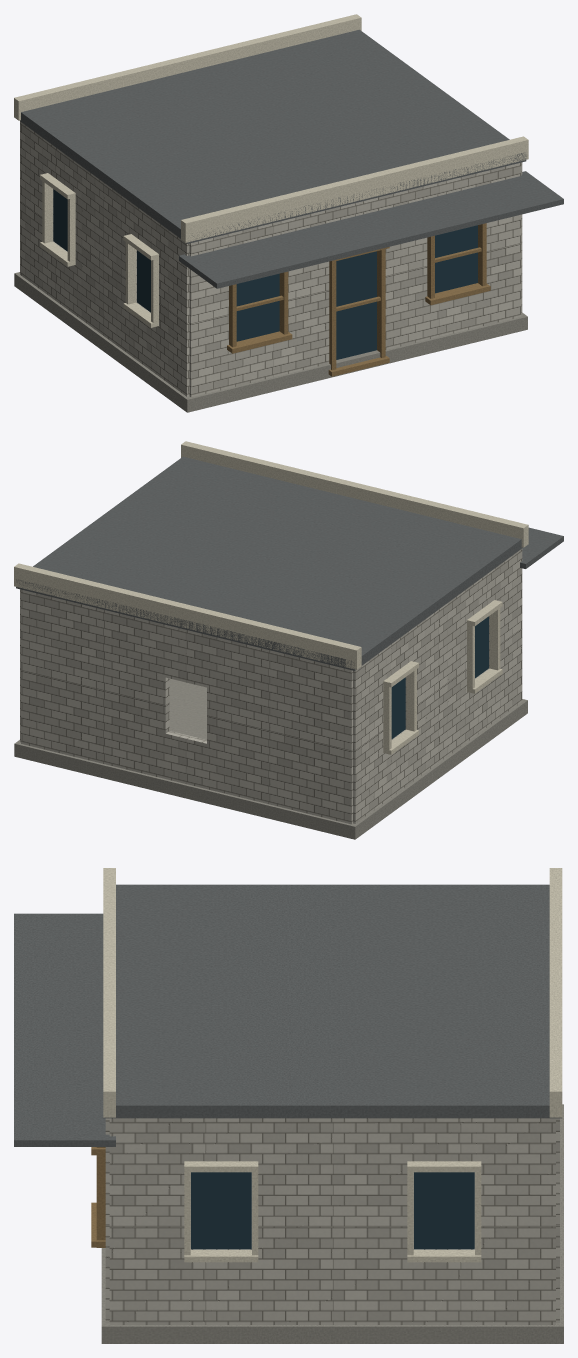
Rendered from SNCKSHP2_lod2.glb.
3 views of the same model, one above another, from view 1: azimuth 30°, elevation 25°; view 2: azimuth 150°, elevation 25°; view 3: azimuth 270°, elevation 25° (orthographic). The views are drawn at different scales.
Visible parts, largest first — view 1: SNCKSHP2_LOD2; view 2: SNCKSHP2_LOD2; view 3: SNCKSHP2_LOD2.
Part boxes in pixels (x1,y1,x2,y2): SNCKSHP2_LOD2: (14,14,563,412); SNCKSHP2_LOD2: (14,441,563,839); SNCKSHP2_LOD2: (14,868,563,1343).
Bounding box in the file's own units: 8.51 × 4.38 × 8.62.
Materials: 7 (5 with a texture image).
